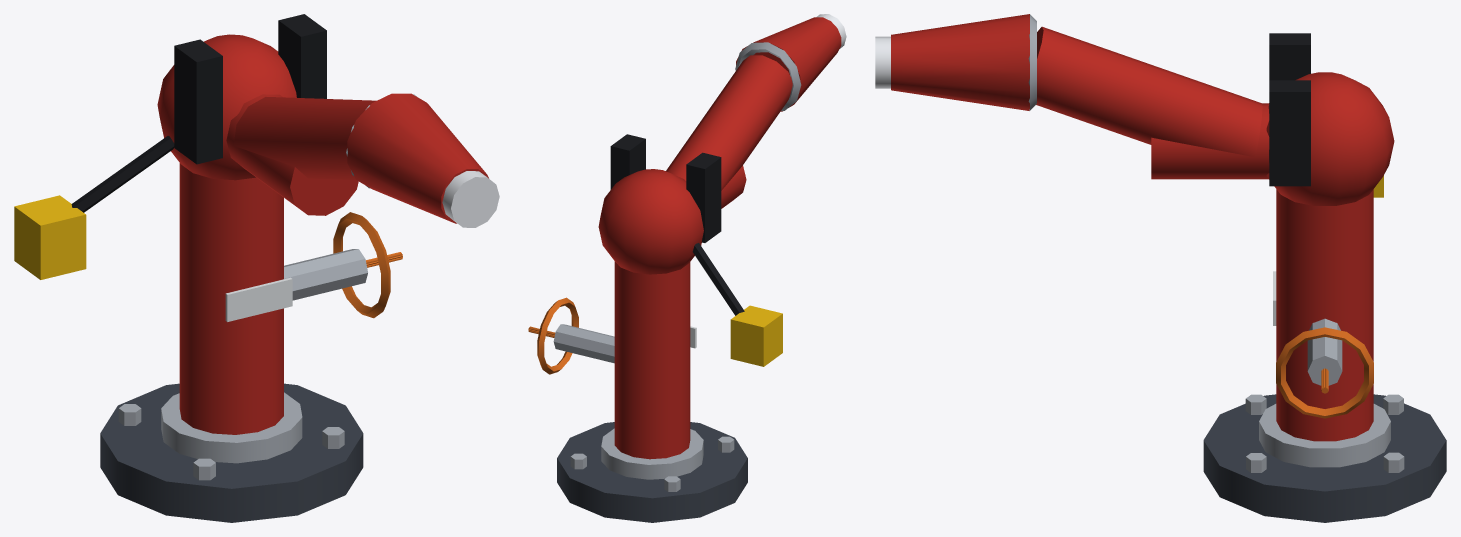
File: hangartool_fire_cannon.glb
3 views of the same model, side by side, from view 1: azimuth 30°, elevation 25°; view 2: azimuth 150°, elevation 25°; view 3: azimuth 270°, elevation 25° (orthographic). The views are drawn at different scales.
Visible parts, largest first — view 1: hangartool_fire_cannon; view 2: hangartool_fire_cannon; view 3: hangartool_fire_cannon.
Boxes of the visible parts, left/top/right/bottom form: hangartool_fire_cannon: left=14, top=14, right=499, bottom=522; hangartool_fire_cannon: left=528, top=14, right=846, bottom=522; hangartool_fire_cannon: left=875, top=14, right=1446, bottom=522.
Size of the model in its own units: 1.09 by 1.44 by 1.64.
